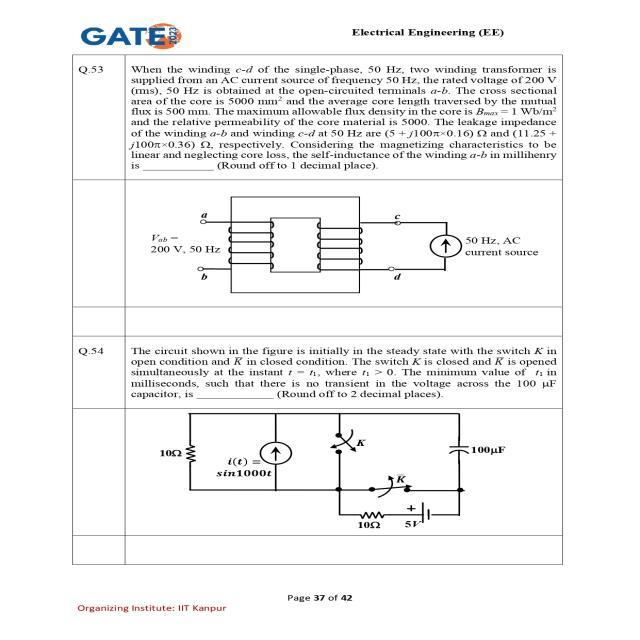Question_Answer_Block: (70, 58, 558, 307), (69, 340, 559, 534)
Question_Block: (74, 56, 560, 304), (66, 338, 560, 534)
Question_Paper_Area: (73, 59, 563, 564)
